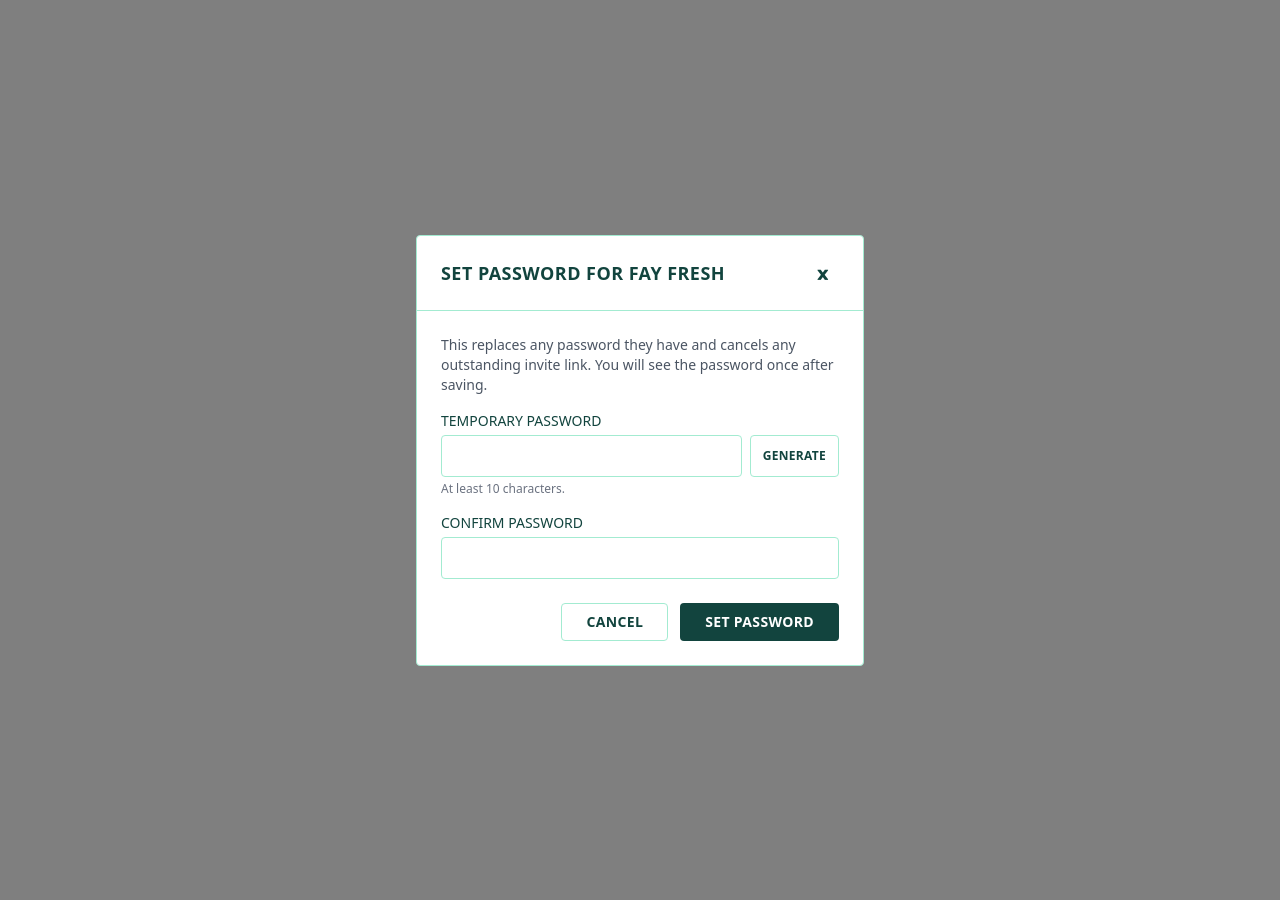
Test case: CoachSetPasswordModal › a server refusal is shown and the password is not revealed
Type "Temporary-9x" into the field labelled "Temporary password" at {"x": 591, "y": 456}, box [441,434,742,476]
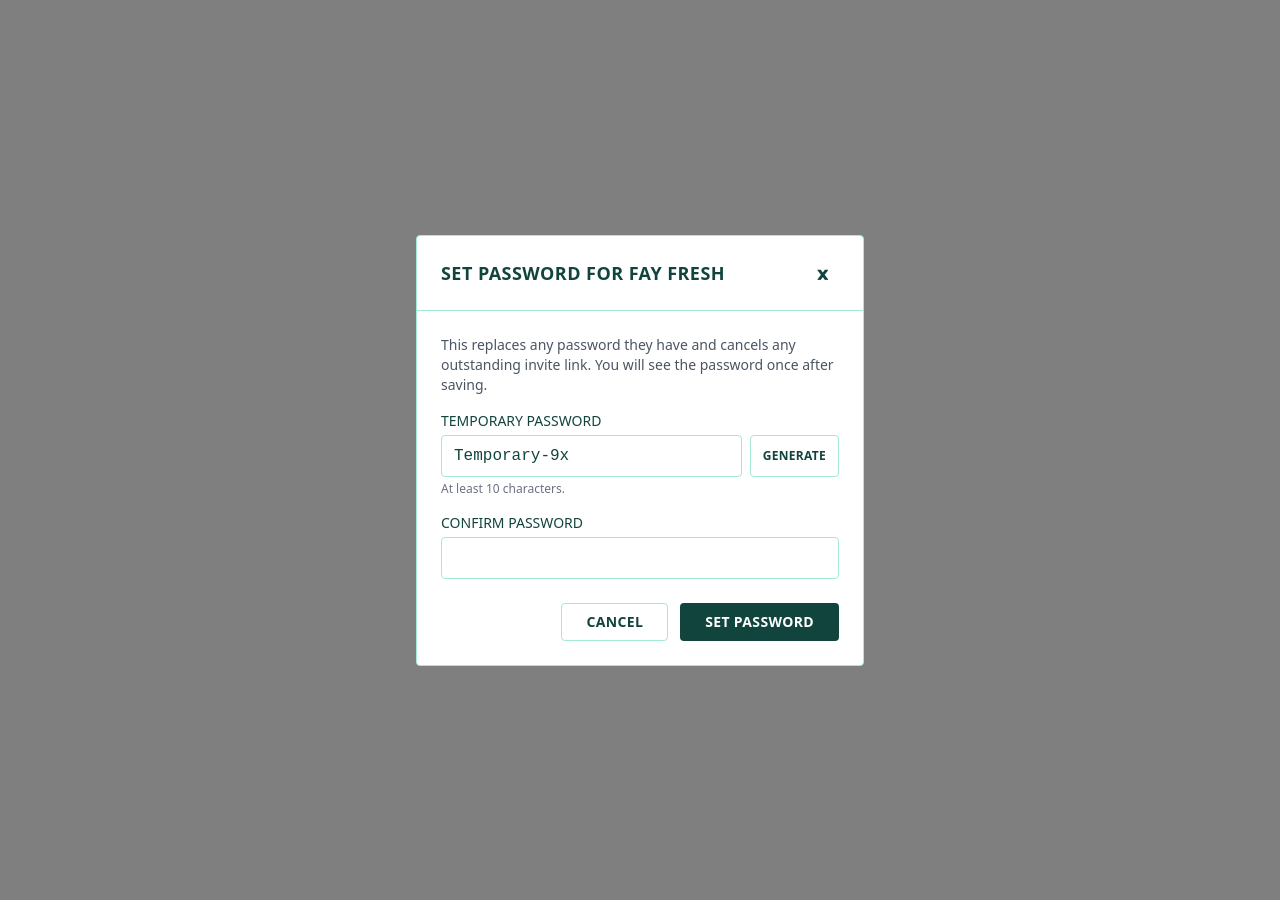
Type "Temporary-9x" into the field labelled "Confirm password" at {"x": 640, "y": 558}, box [441,536,839,578]
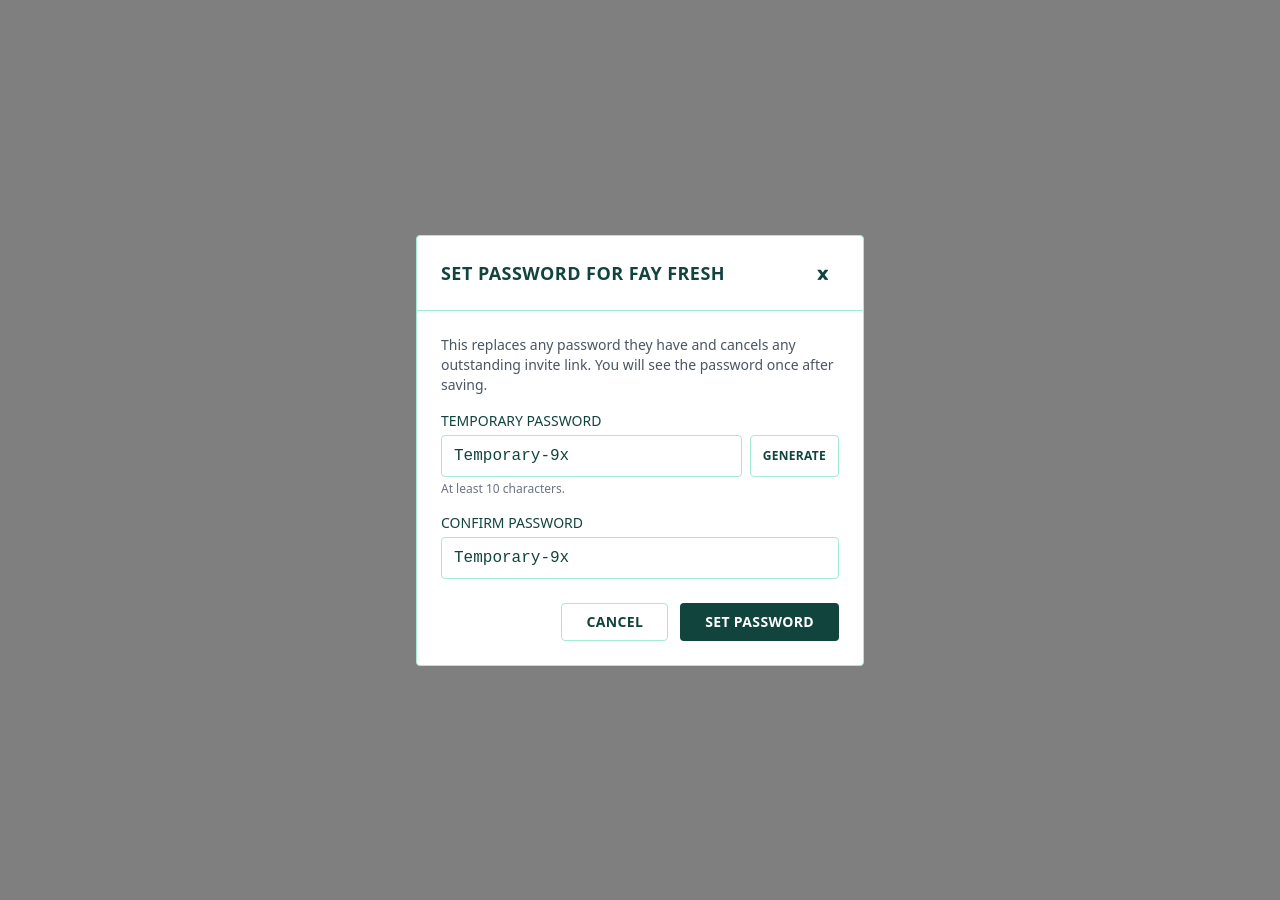
Click the button "Set password" at {"x": 760, "y": 622}, box [680,602,839,640]
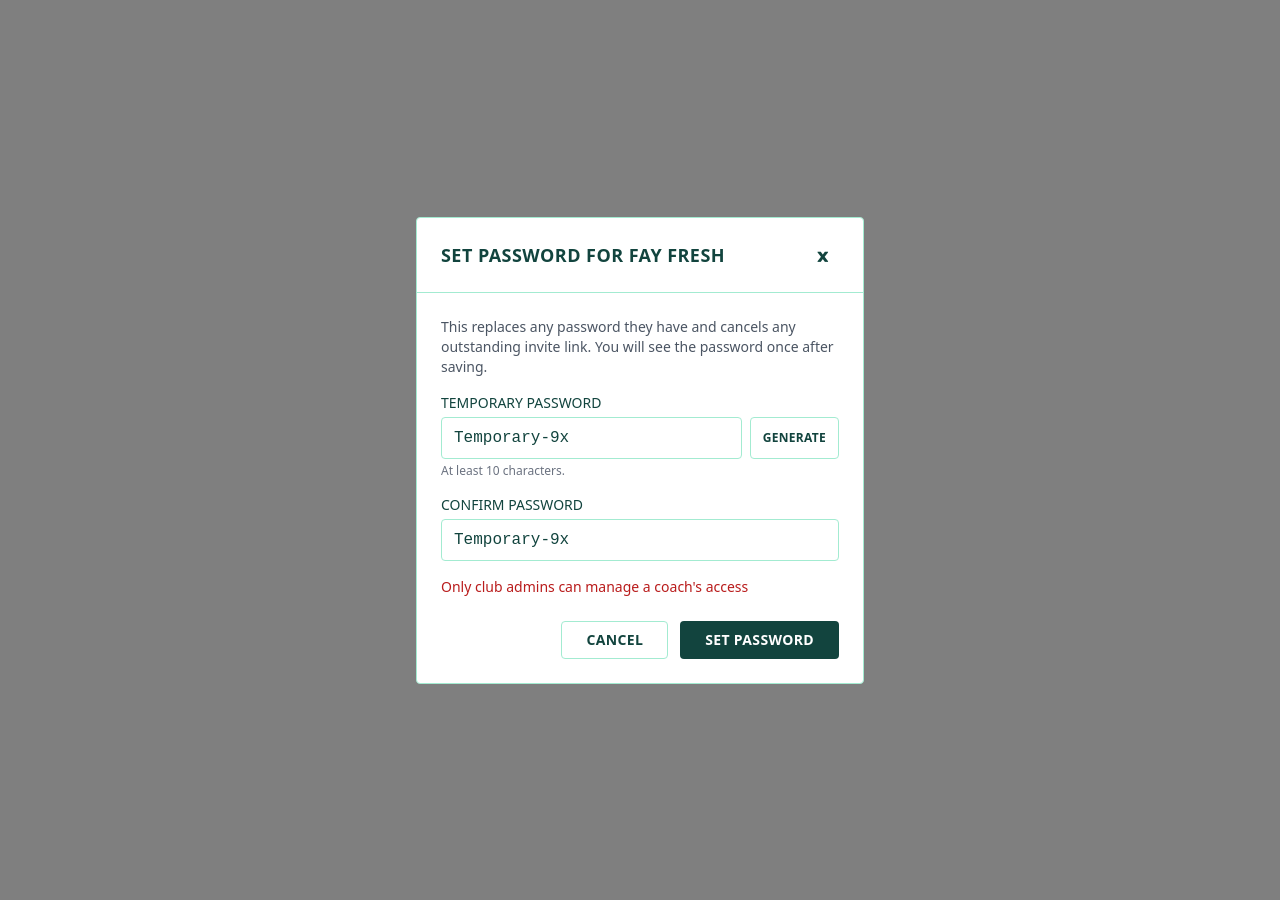
Now the text "Only club admins can manage a coach's access" is shown, box [441,576,748,596]
